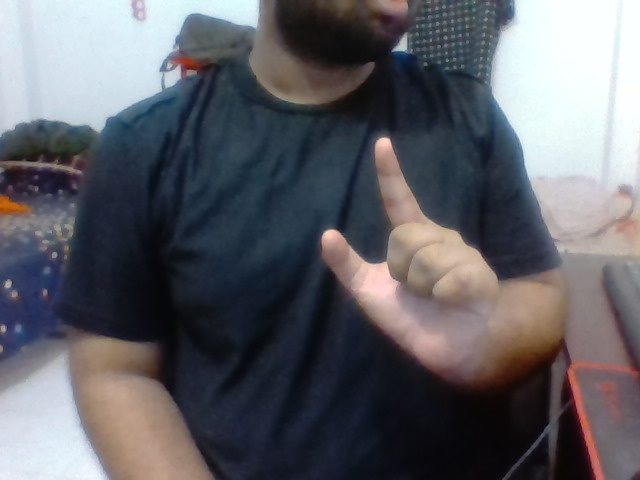J: (310, 130, 516, 362)
